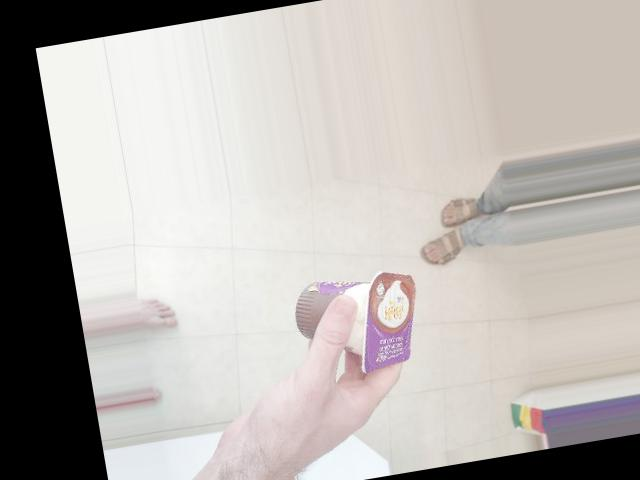milky: (325, 216, 429, 362)
